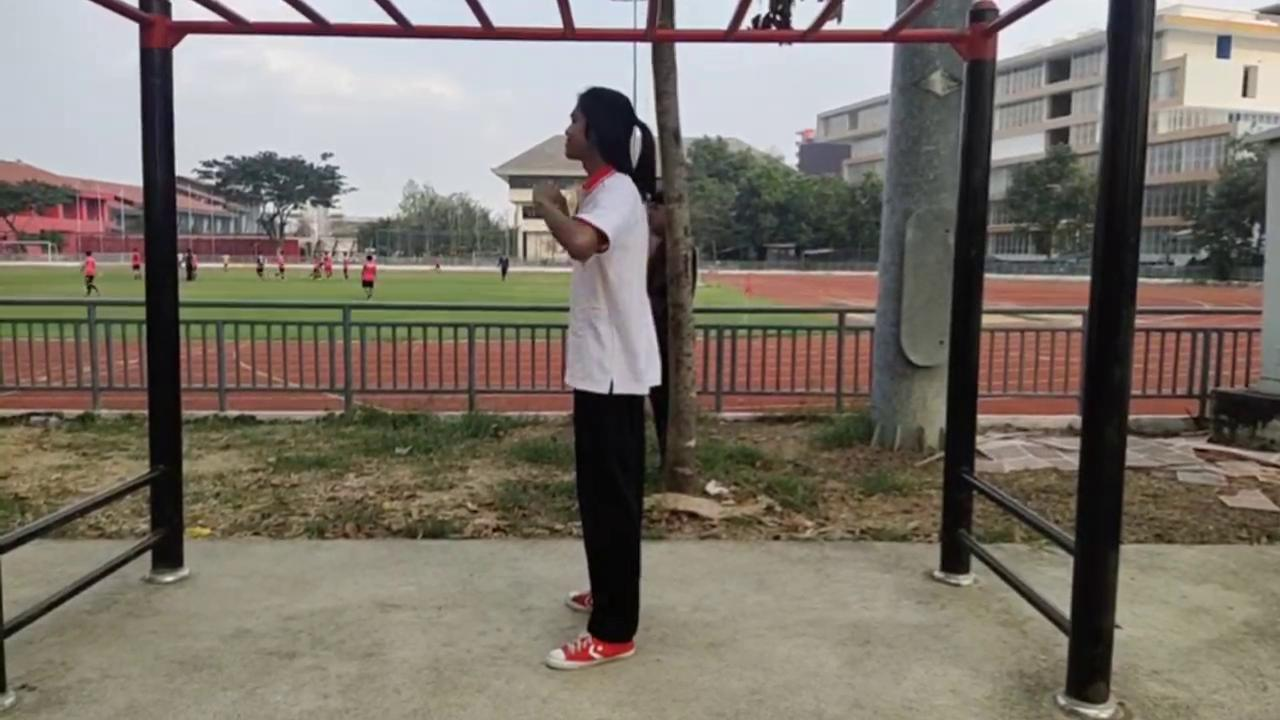squat up: (531, 89, 678, 671)
